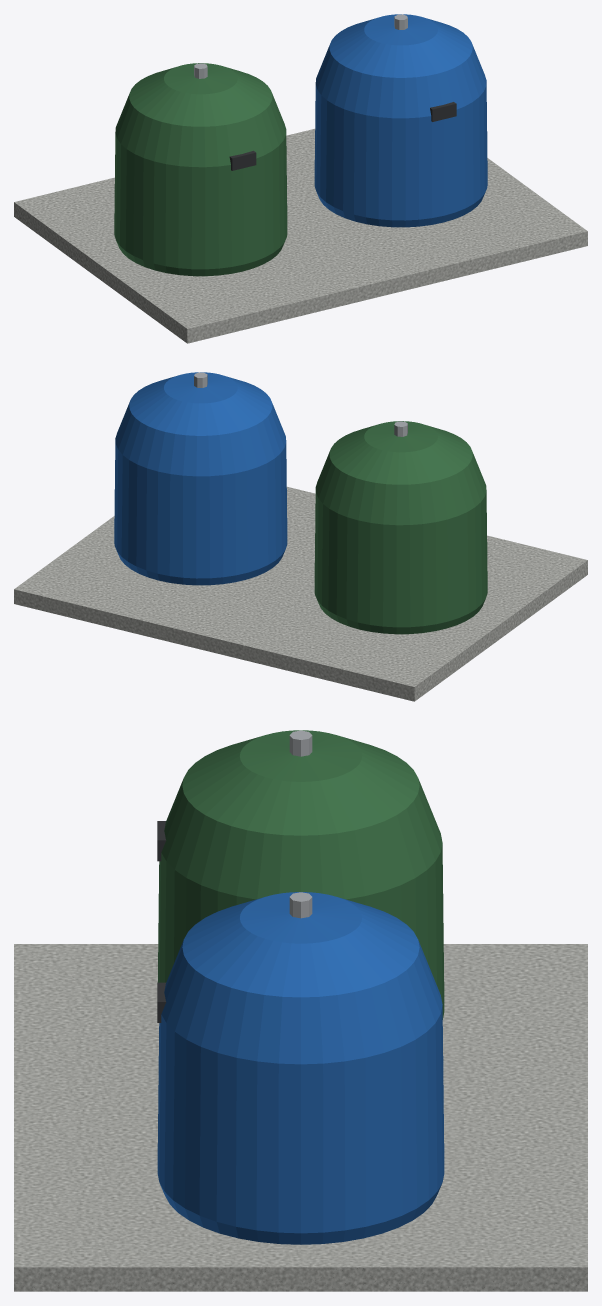
3 renders of one model, top to bottom at view 1: azimuth 30°, elevation 25°; view 2: azimuth 150°, elevation 25°; view 3: azimuth 270°, elevation 25°, orthographic. The views are drawn at different scales.
Visible parts, largest first — view 1: utility.recycling_island, zvono-plastic_blue, zvono-plastic_green; view 2: utility.recycling_island, zvono-plastic_green, zvono-plastic_blue; view 3: utility.recycling_island, zvono-plastic_blue, zvono-plastic_green.
Boxes of the visible parts, x1,y1,x2,y2 form: utility.recycling_island: (14, 128, 587, 343); zvono-plastic_blue: (314, 14, 487, 227); zvono-plastic_green: (114, 63, 287, 276); utility.recycling_island: (14, 486, 587, 701); zvono-plastic_green: (314, 421, 487, 634); zvono-plastic_blue: (114, 372, 287, 585); utility.recycling_island: (14, 944, 587, 1291); zvono-plastic_blue: (157, 892, 444, 1244); zvono-plastic_green: (157, 730, 444, 1019).
Size of the model in its own units: 4 by 3 by 1.81.
5 materials, 1 textured.
